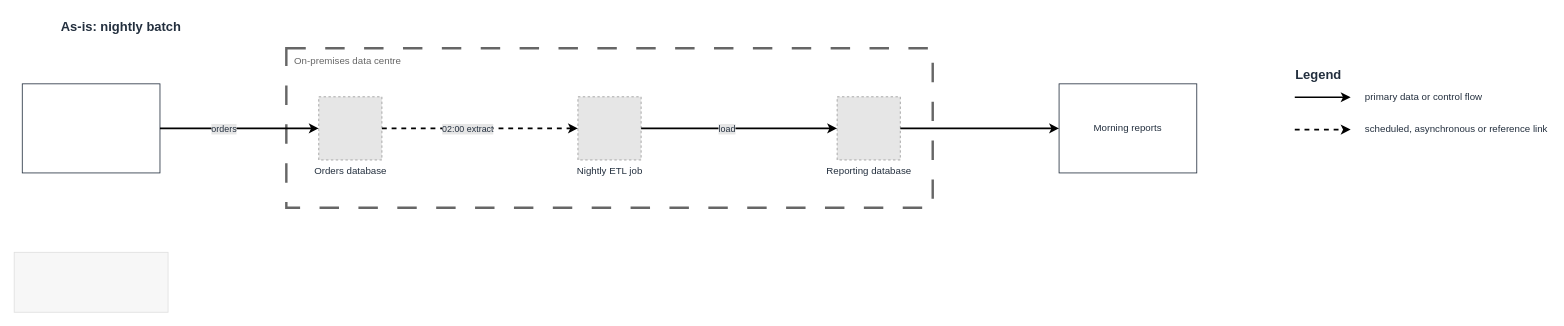
The diagram is 1564 pixels wide and 326 high, and some of its shapes have lost their labels. Grey dashed boxes stand in for pictures. The centre of each missing label's shape, as x and y in pixels:
"Assumption: reports run a day behind; the 02:00 load is the only feed." goes at (90,282).
"Web shop" goes at (90,128).
